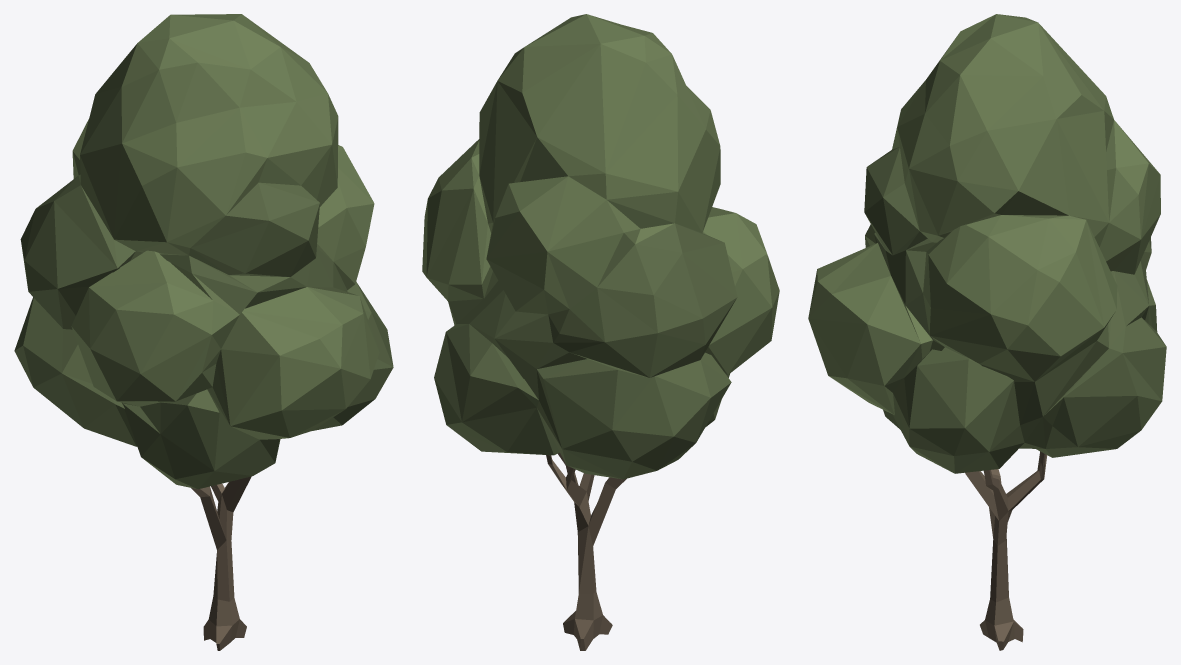
File: Env_Tree_01.glb
3 views of the same model, side by side, from view 1: azimuth 30°, elevation 25°; view 2: azimuth 150°, elevation 25°; view 3: azimuth 270°, elevation 25° (orthographic). The views are drawn at different scales.
Parts seen in each view (by area): view 1: SM_Gen_Env_Tree_01; view 2: SM_Gen_Env_Tree_01; view 3: SM_Gen_Env_Tree_01.
Part boxes in pixels (x1,y1,x2,y2): SM_Gen_Env_Tree_01: (14,14,393,650); SM_Gen_Env_Tree_01: (422,14,779,650); SM_Gen_Env_Tree_01: (808,14,1166,650).
Bounding box in the file's own units: 4.32 × 8.3 × 4.43.
1 material, 1 textured.
